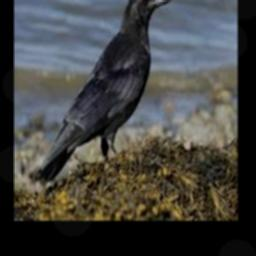Crow: (35, 0, 170, 183)
